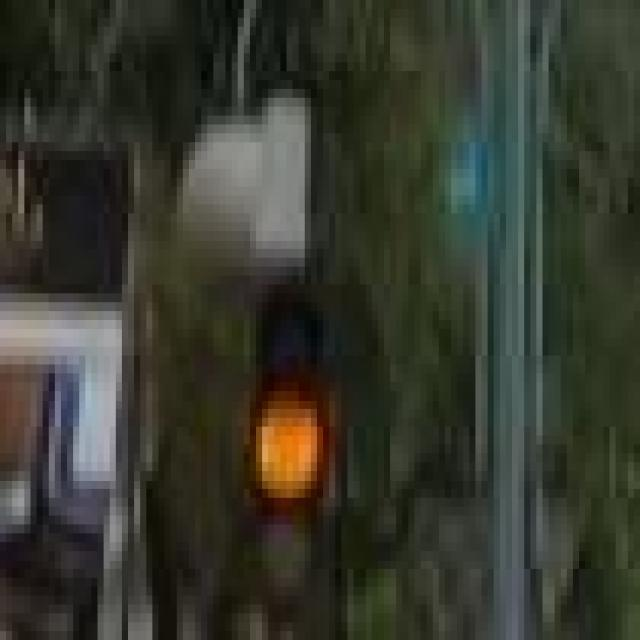yellow_light: (250, 267, 342, 623)
